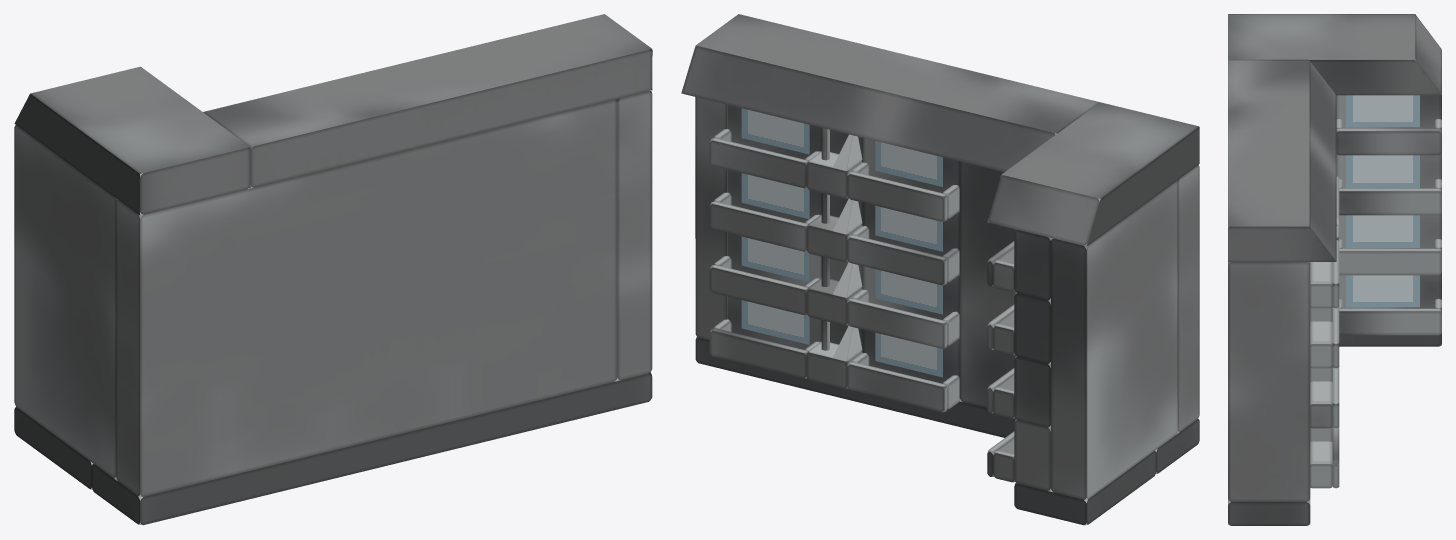
Rendered from danchi.fbx.
The picture shows the model from 3 angles, left to right: view 1: azimuth 30°, elevation 25°; view 2: azimuth 150°, elevation 25°; view 3: azimuth 270°, elevation 25°; orthographic projection. The views are drawn at different scales.
Visible parts, largest first — view 1: cuboid; view 2: cuboid, plane_8, plane_11, plane, plane_1, plane_10, plane_2, plane_9, plane_3; view 3: cuboid, plane_6, plane_4, plane_5, plane_7.
Part boxes in pixels (x1,y1,x2,y2): cuboid: (14, 14, 652, 525); cuboid: (681, 14, 1199, 525); plane_8: (741, 108, 809, 154); plane_11: (741, 173, 809, 218); plane: (875, 141, 942, 186); plane_1: (875, 205, 942, 251); plane_10: (741, 236, 809, 281); plane_2: (875, 269, 942, 314); plane_9: (741, 300, 809, 344); plane_3: (875, 332, 942, 377); cuboid: (1228, 14, 1441, 525); plane_6: (1346, 155, 1419, 188); plane_4: (1346, 275, 1419, 307); plane_5: (1346, 215, 1419, 247); plane_7: (1346, 95, 1419, 127).
Bounding box in the file's own units: 475 × 312 × 202.
Materials: 2 (2 with a texture image).
